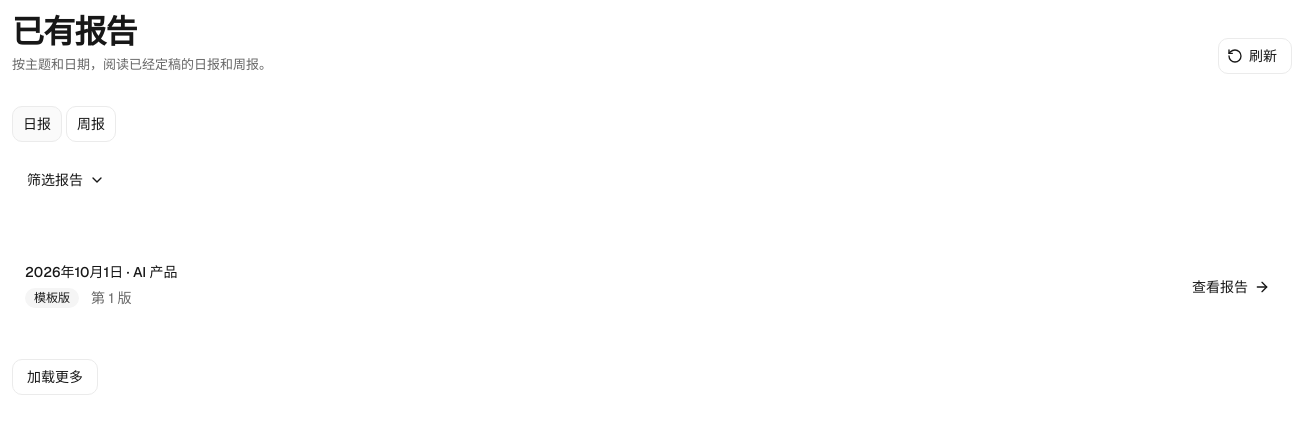
Scenario: clears old report titles when pagination loses permission (401)
Click the button "加载更多": [55, 377] box [12,359,98,395]
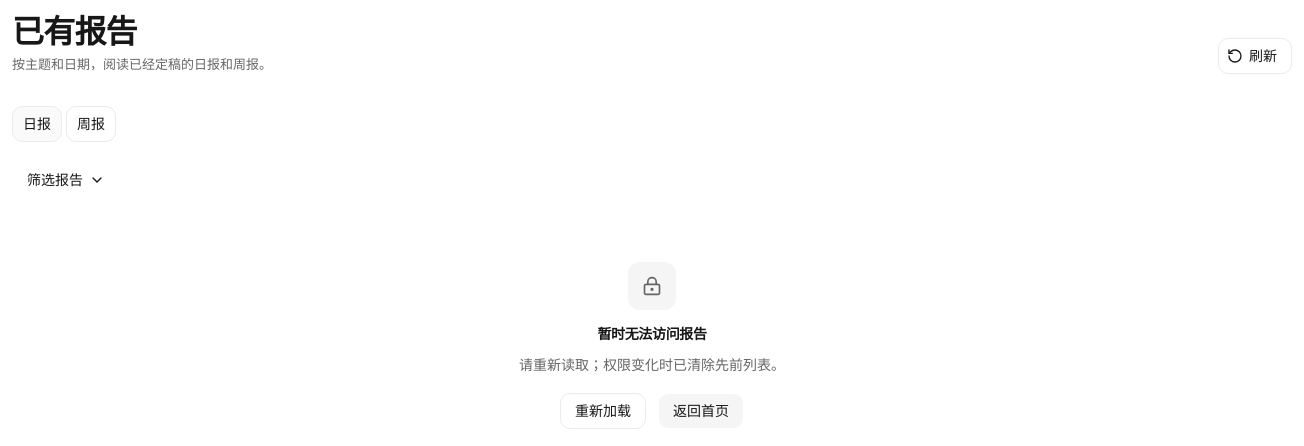
Expected: the heading "暂时无法访问报告" is shown, [597,322,707,346]
Expected: the text "AI 产品" is gone
Expected: the link "查看报告" is gone
